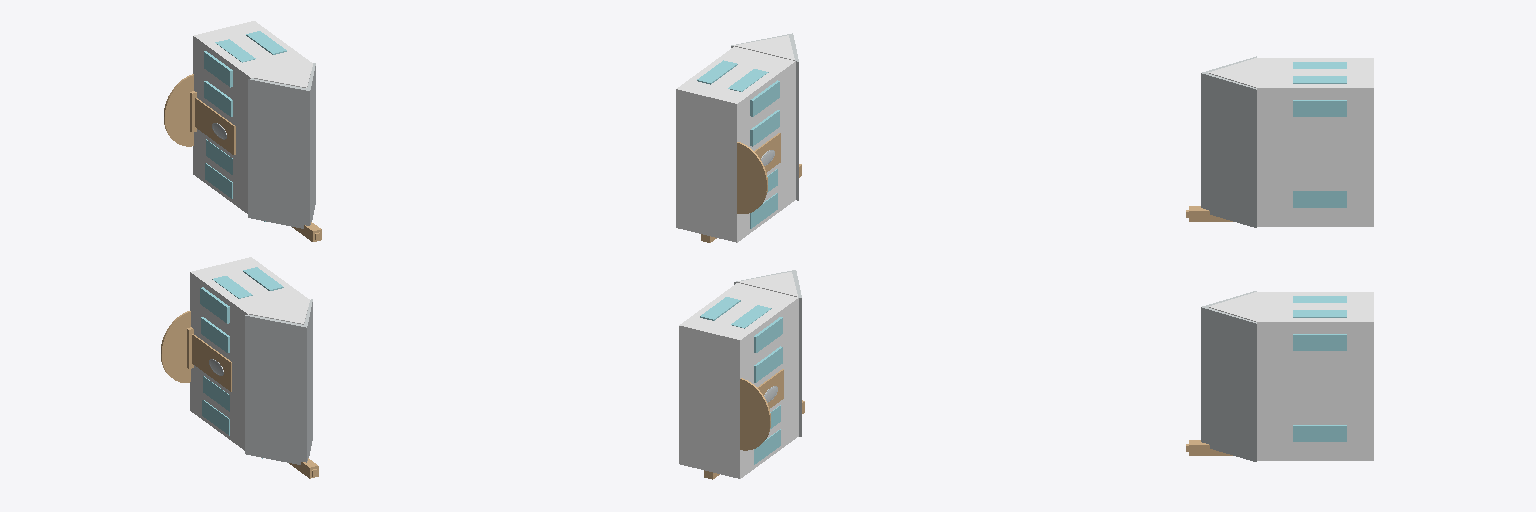
File: tinker.obj
The picture shows the model from 3 angles: view 1: azimuth 30°, elevation 25°; view 2: azimuth 150°, elevation 25°; view 3: azimuth 270°, elevation 25°; orthographic projection.
Visible parts, largest first — view 1: obj_0; view 2: obj_0; view 3: obj_0.
Boxes of the visible parts, x1,y1,x2,y2 form: obj_0: [161, 21, 321, 478]; obj_0: [676, 33, 804, 479]; obj_0: [1186, 56, 1373, 461].
Bounding box in the file's own units: 15 × 56.47 × 25.